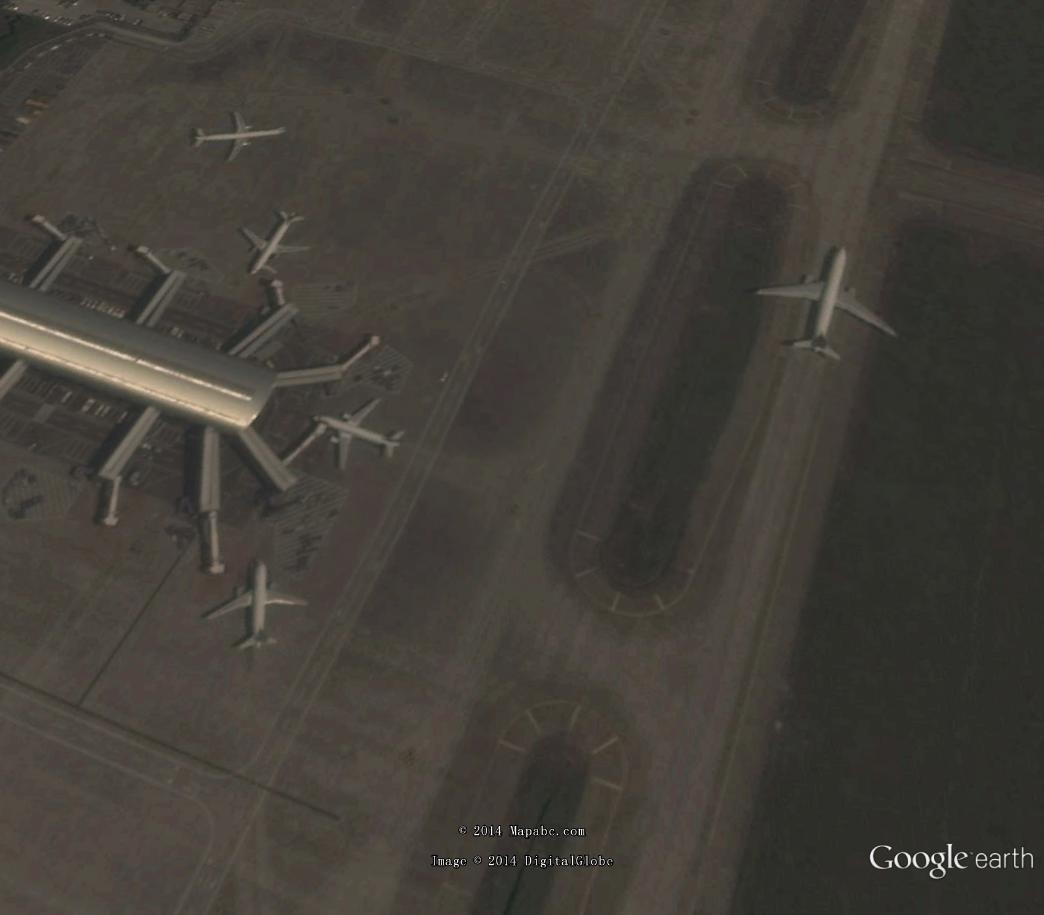aircraft: (750, 241, 903, 372), (204, 556, 315, 657), (309, 394, 411, 477), (190, 105, 291, 169), (237, 204, 312, 280)
